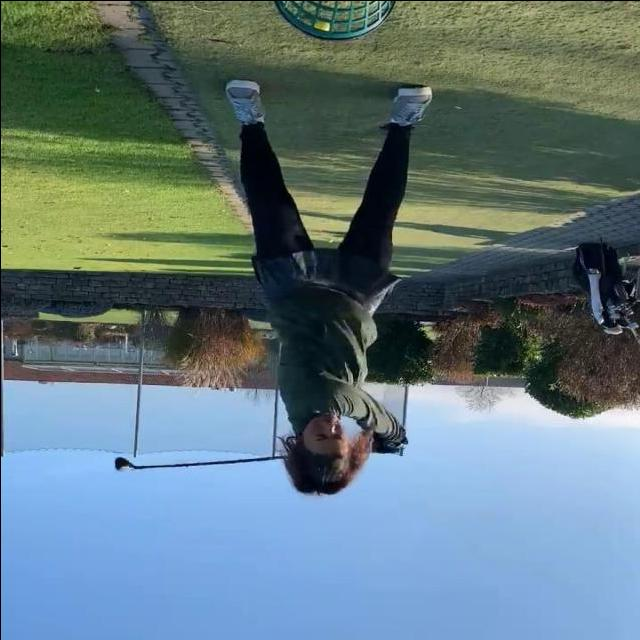golf club-handle: (113, 453, 287, 470)
golf club-head: (113, 455, 132, 471)
